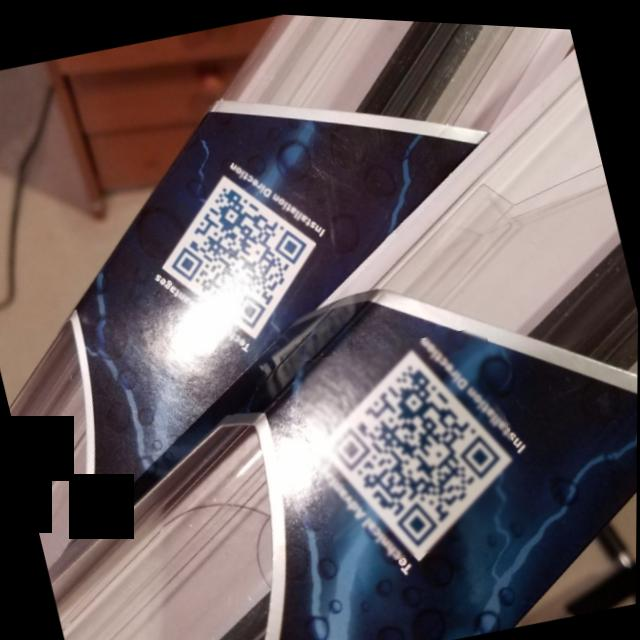QR_CODE: (291, 312, 535, 574), (147, 145, 336, 359)
